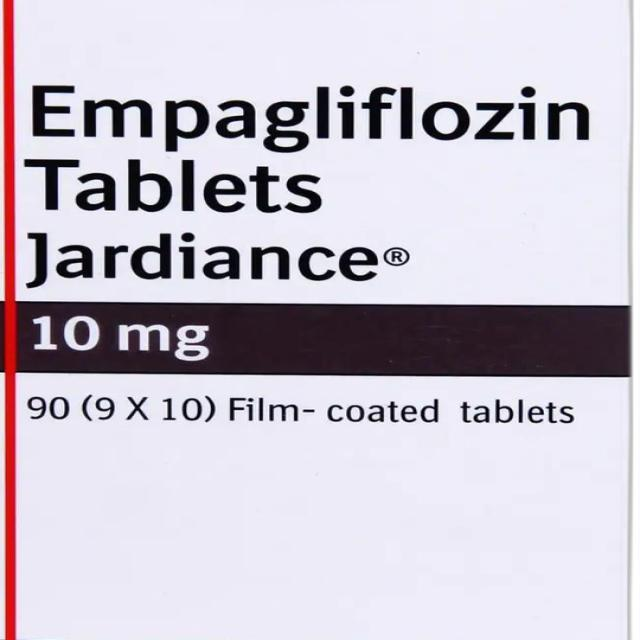drug-name: (21, 222, 380, 294)
